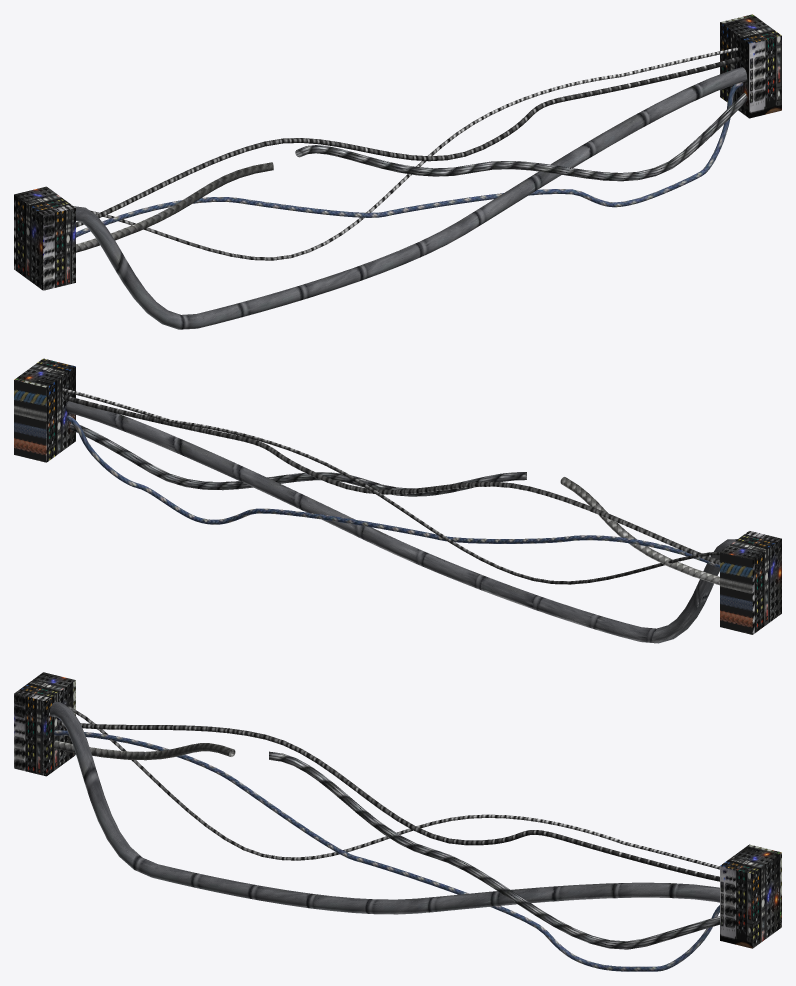
The model's file is kable2.fbx.
3 views of the same model, one above another, from view 1: azimuth 30°, elevation 25°; view 2: azimuth 150°, elevation 25°; view 3: azimuth 330°, elevation 25° (orthographic).
Parts seen in each view (by area): view 1: Cube.005; view 2: Cube.005; view 3: Cube.005.
Boxes of the visible parts, x1,y1,x2,y2 form: Cube.005: [14, 14, 781, 329]; Cube.005: [14, 358, 781, 643]; Cube.005: [14, 672, 781, 971].
Size of the model in its own units: 1018 by 196 by 101.
1 material, 1 textured.
